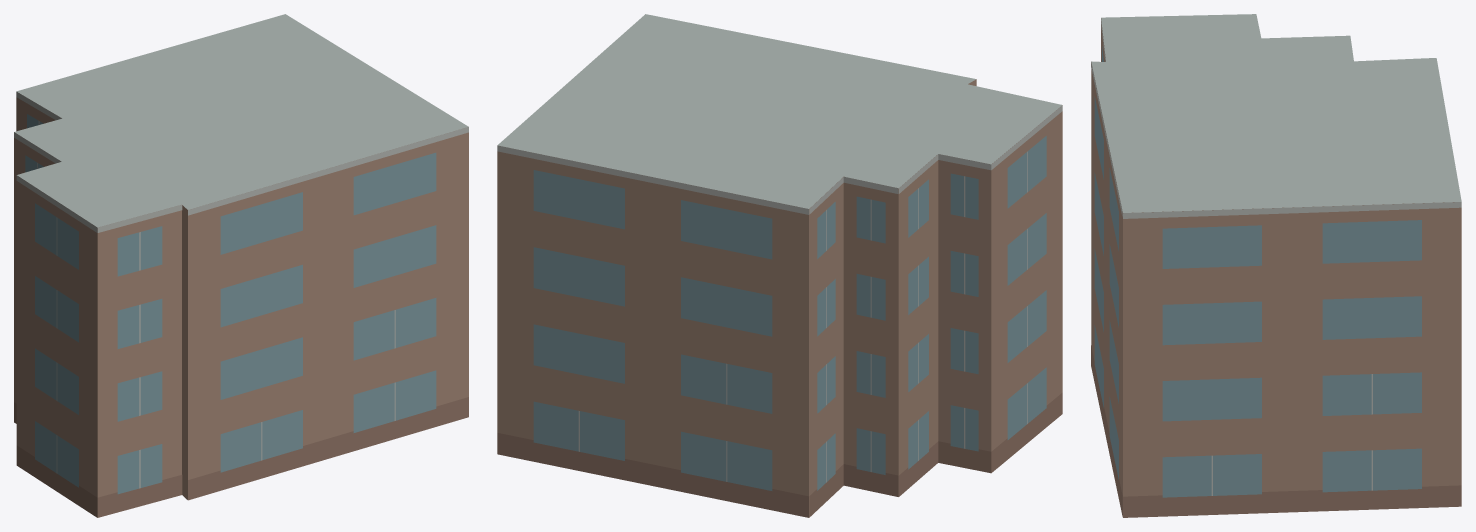
Rendered from survey-upis-32693129.glb.
3 views of the same model, side by side, from view 1: azimuth 30°, elevation 25°; view 2: azimuth 150°, elevation 25°; view 3: azimuth 270°, elevation 25° (orthographic). The views are drawn at different scales.
Visible parts, largest first — view 1: survey-upis-32693129.tmp; view 2: survey-upis-32693129.tmp; view 3: survey-upis-32693129.tmp.
Boxes of the visible parts, <box> form: survey-upis-32693129.tmp: <box>14,14,468,517</box>; survey-upis-32693129.tmp: <box>497,14,1062,517</box>; survey-upis-32693129.tmp: <box>1091,14,1461,517</box>.
Bounding box in the file's own units: 17.63 × 12.58 × 13.87.
